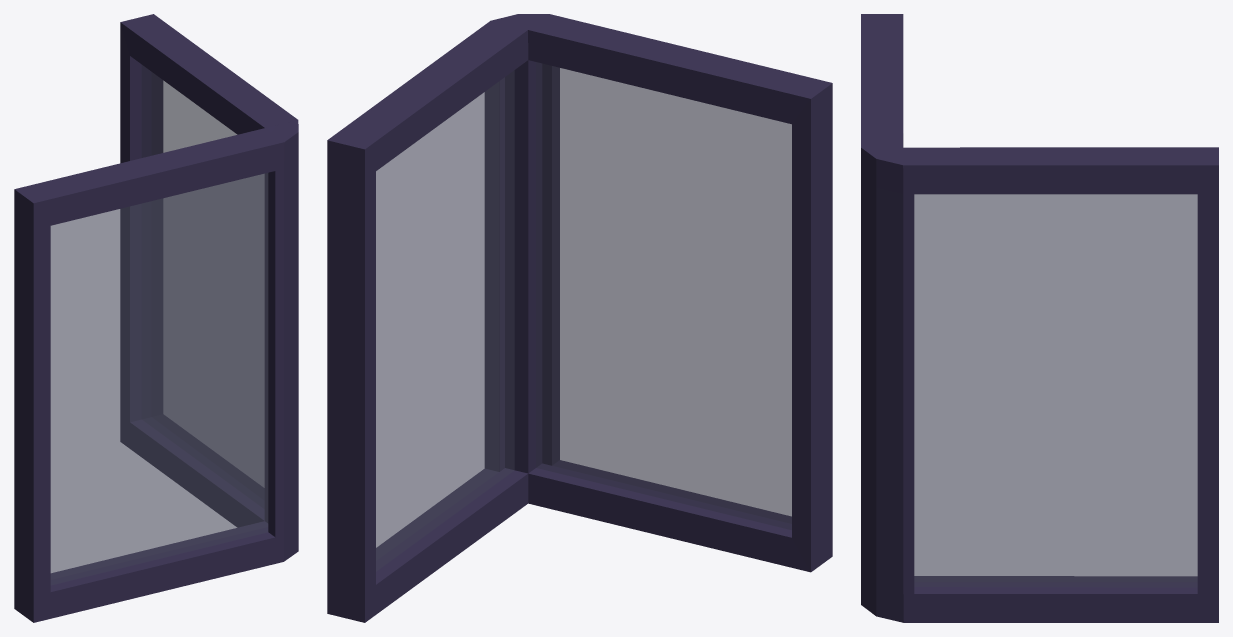
The model's file is Glass_Wall_Corner_DL.fbx.
The picture shows the model from 3 angles, left to right: view 1: azimuth 30°, elevation 25°; view 2: azimuth 150°, elevation 25°; view 3: azimuth 270°, elevation 25°; orthographic projection. The views are drawn at different scales.
Visible parts, largest first — view 1: Glass_Wall_Corner_DL; view 2: Glass_Wall_Corner_DL; view 3: Glass_Wall_Corner_DL.
Part boxes in pixels (bbox=[...]): Glass_Wall_Corner_DL: bbox=[14, 14, 298, 622]; Glass_Wall_Corner_DL: bbox=[327, 14, 832, 622]; Glass_Wall_Corner_DL: bbox=[861, 14, 1218, 622].
Bounding box in the file's own units: 2.13 × 3 × 2.13.
